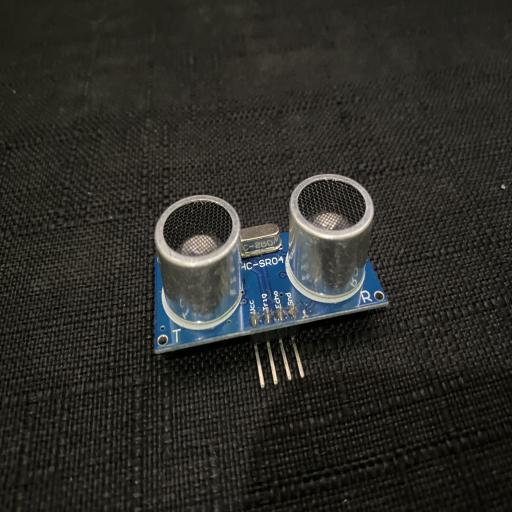Ultrasonic Sensor: (153, 173, 390, 387)
